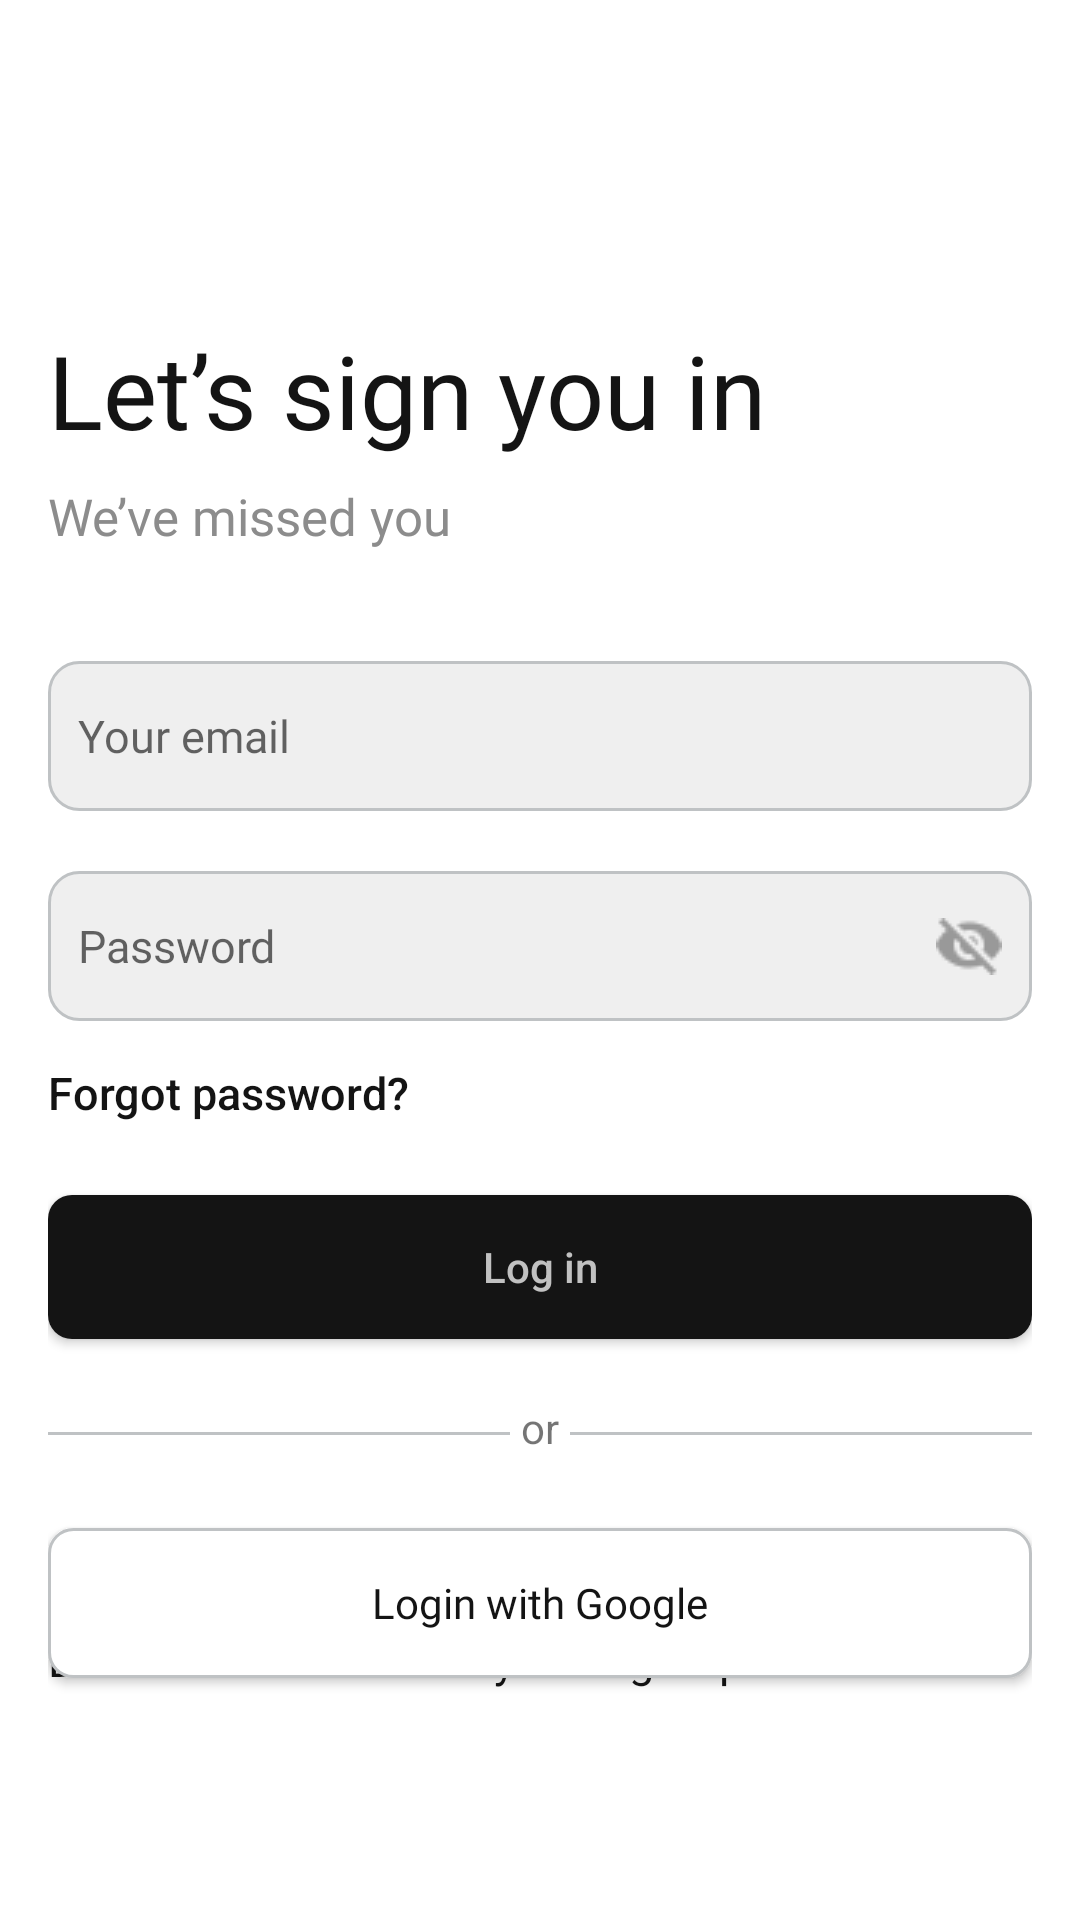

Icons on this 1080 × 1920 Android screen, each with the point to tap as (x,y):
eye: (969,946)
